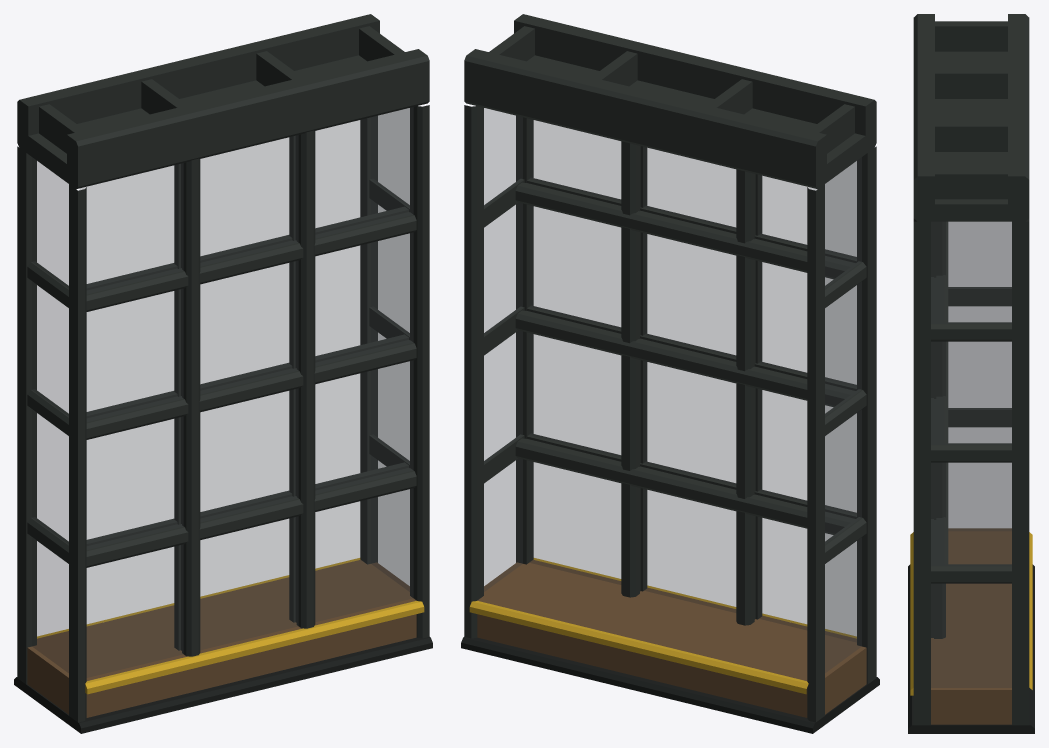
The model's file is shopfront_glass.glb.
The picture shows the model from 3 angles, left to right: view 1: azimuth 30°, elevation 25°; view 2: azimuth 150°, elevation 25°; view 3: azimuth 270°, elevation 25°; orthographic projection. The views are drawn at different scales.
Visible parts, largest first — view 1: screen-frame, screen-glazing; view 2: screen-frame, screen-glazing; view 3: screen-frame, screen-glazing.
Part boxes in pixels (bbox=[...]): screen-frame: bbox=[14, 14, 432, 733]; screen-glazing: bbox=[32, 107, 413, 677]; screen-frame: bbox=[461, 14, 879, 733]; screen-glazing: bbox=[484, 108, 861, 672]; screen-frame: bbox=[908, 14, 1034, 733]; screen-glazing: bbox=[931, 221, 1011, 687].
Bounding box in the file's own units: 2 × 3.2 × 0.66.
